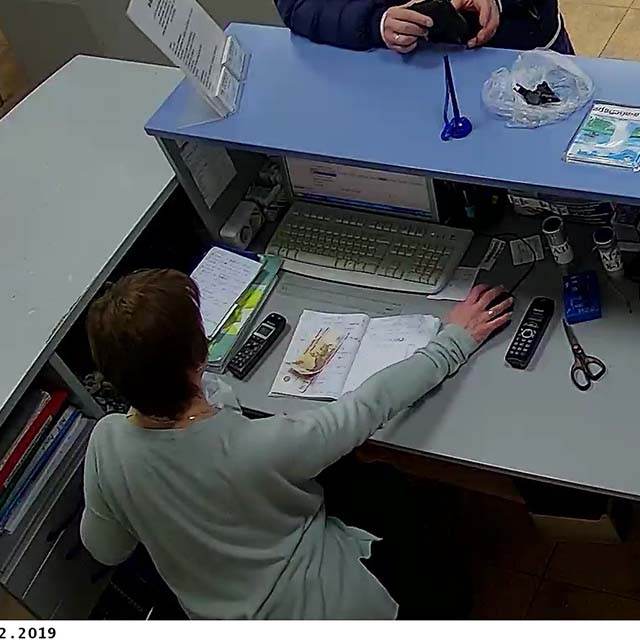banknotes: (278, 325, 347, 388)
